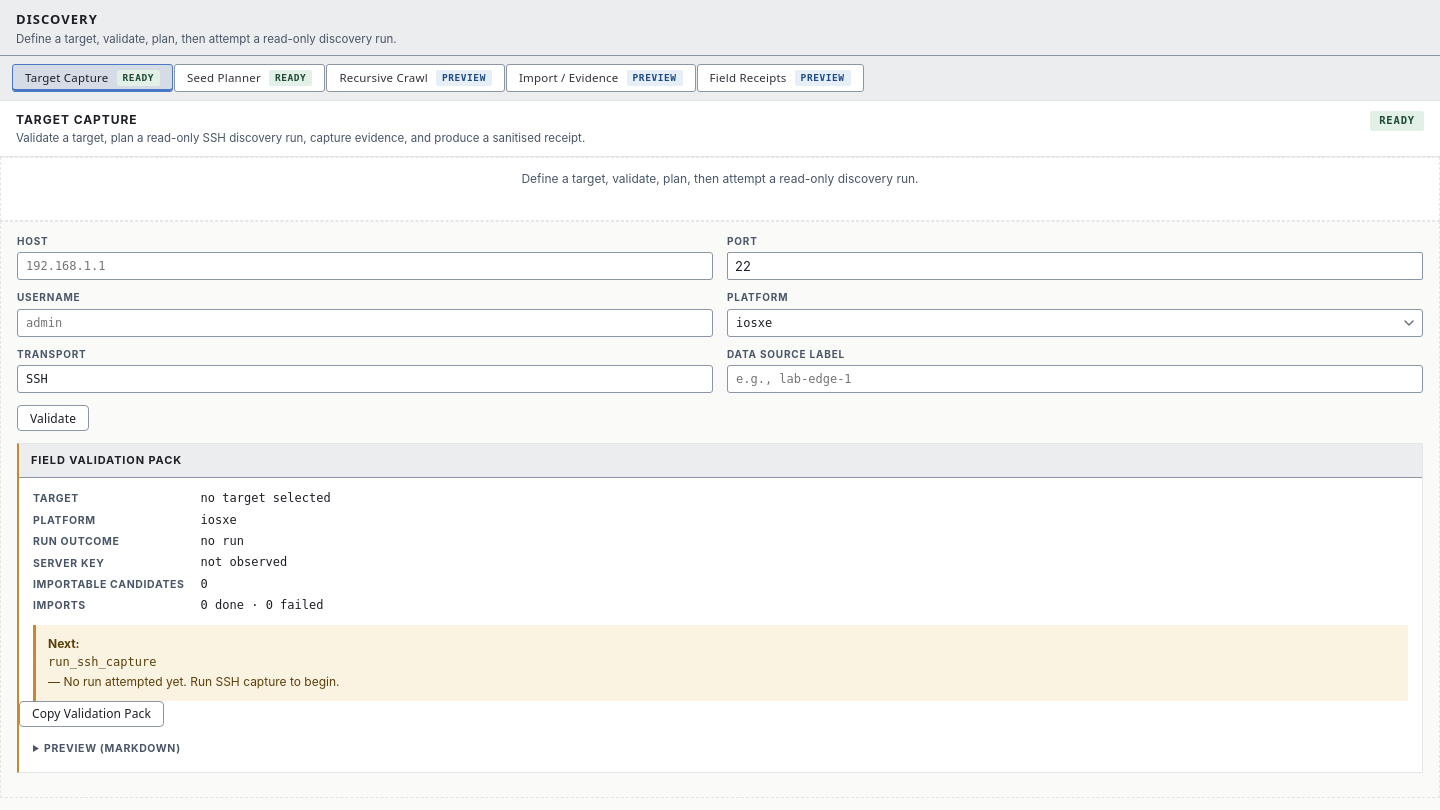
Test case: DiscoveryMode — validation pack (V1BF) › copy button shows 'Copied' label after click
Step 1. Click the button with test id "discovery-vpack-copy-btn" → [92, 714], box [19,701,164,727]
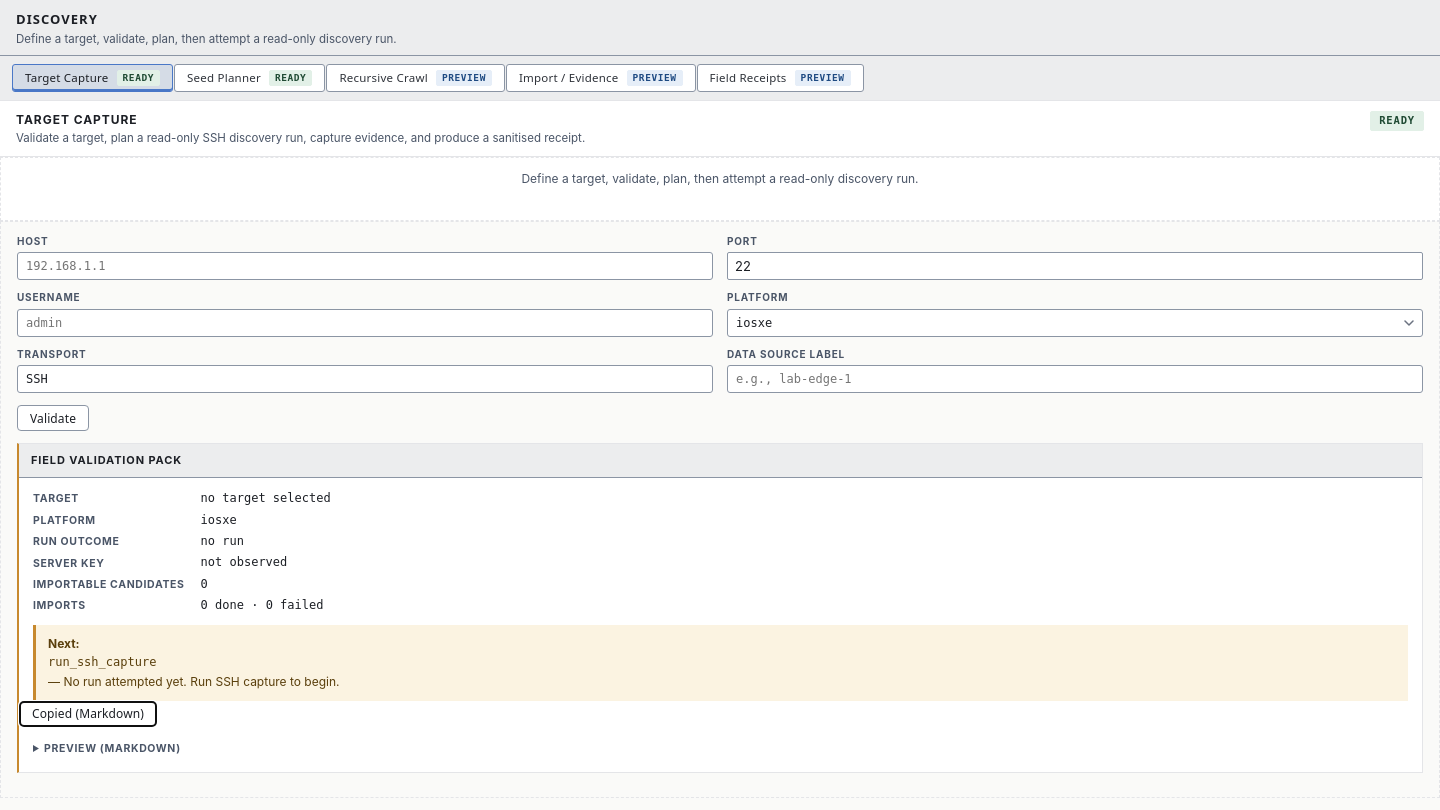
Result: the button with test id "discovery-vpack-copy-btn" shows "Copied" at [19,701,157,727]
